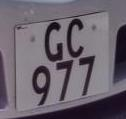7: (53, 56, 79, 103), (75, 53, 99, 99)
9: (28, 60, 57, 107)
C: (62, 14, 94, 61)
G: (42, 20, 67, 62)
